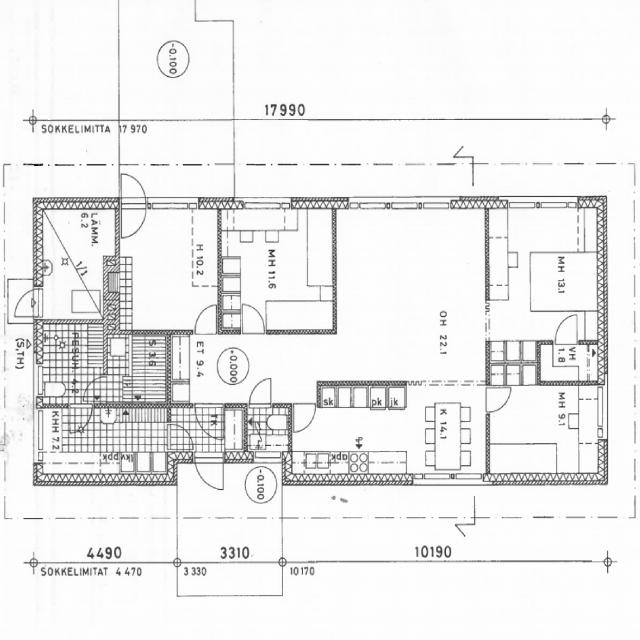door: (195, 453, 223, 497), (195, 404, 222, 442), (121, 196, 146, 236), (121, 168, 146, 208), (9, 289, 43, 317), (293, 404, 315, 435), (167, 424, 193, 450), (555, 315, 577, 345), (242, 305, 264, 335), (249, 380, 270, 409), (195, 306, 216, 335), (82, 377, 107, 401), (485, 389, 510, 412)
